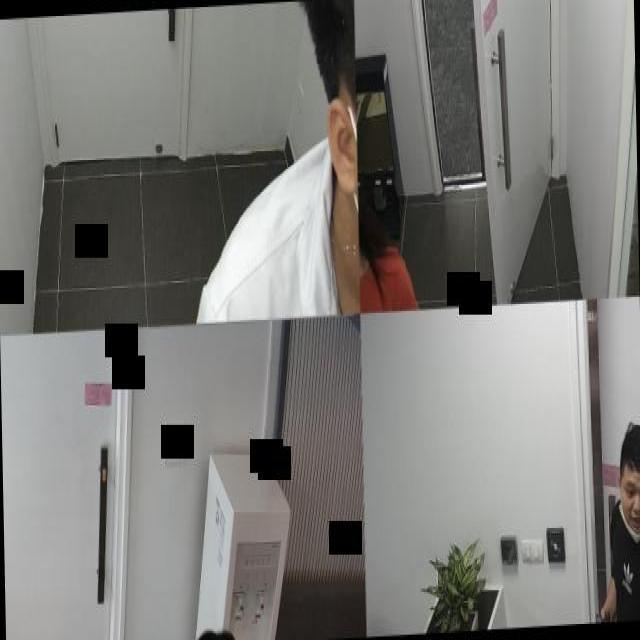hairnet: (619, 471, 639, 548)
